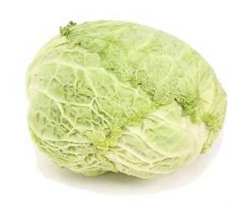cabbage: (26, 19, 226, 180)
